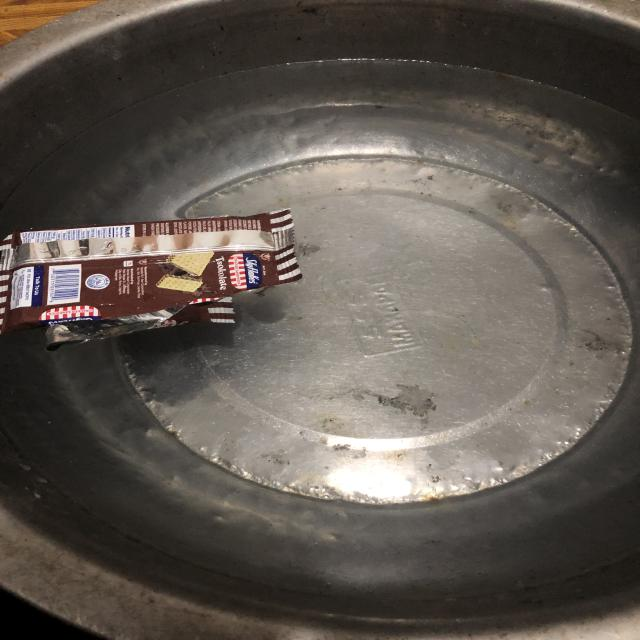Plastic Wrapper: (0, 209, 302, 351)
